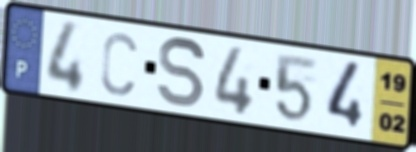4: (322, 57, 371, 136), (44, 17, 88, 96), (211, 44, 256, 118)
5: (274, 51, 321, 124)
C: (98, 29, 139, 99)
S: (156, 35, 208, 111)
